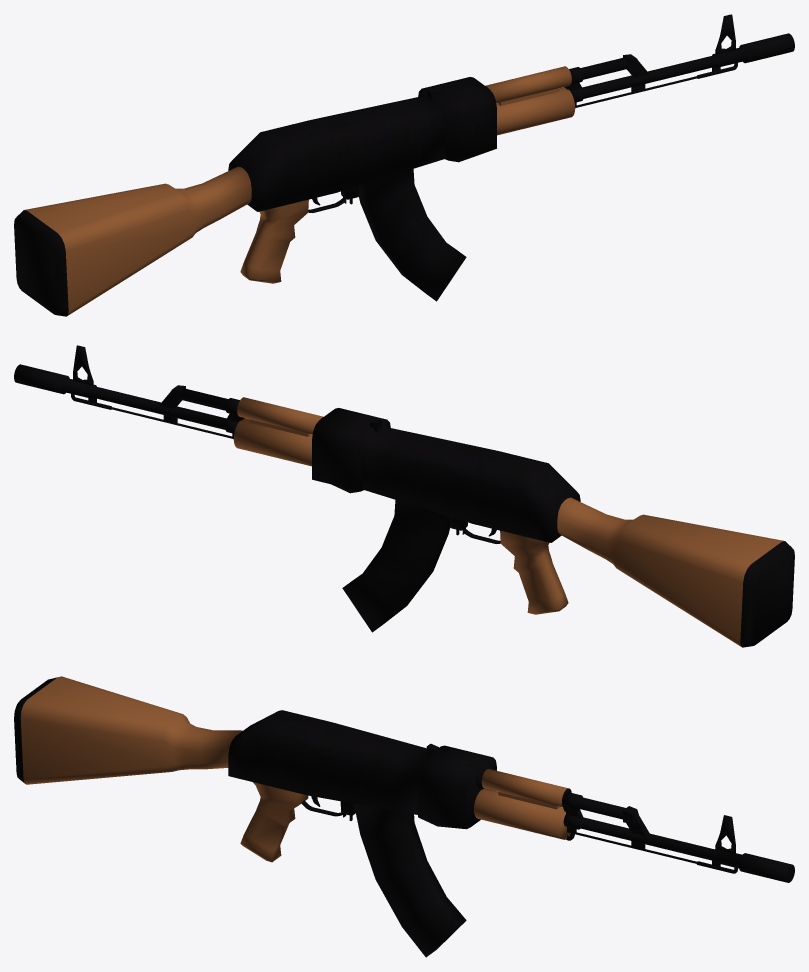
The model's file is ak_withTextures.glb.
3 renders of one model, top to bottom at view 1: azimuth 30°, elevation 25°; view 2: azimuth 150°, elevation 25°; view 3: azimuth 330°, elevation 25°, orthographic.
Visible parts, largest first — view 1: Cube; view 2: Cube; view 3: Cube.
Boxes of the visible parts, <box> form: Cube: <box>14,14,794,316</box>; Cube: <box>14,345,794,647</box>; Cube: <box>14,676,794,957</box>.
Bounding box in the file's own units: 4.72 × 1.25 × 0.4873.
2 materials, 2 textured.
